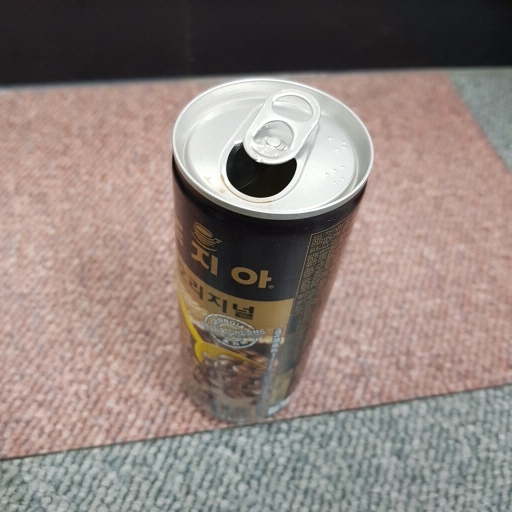Metal_0: (169, 77, 375, 422)
